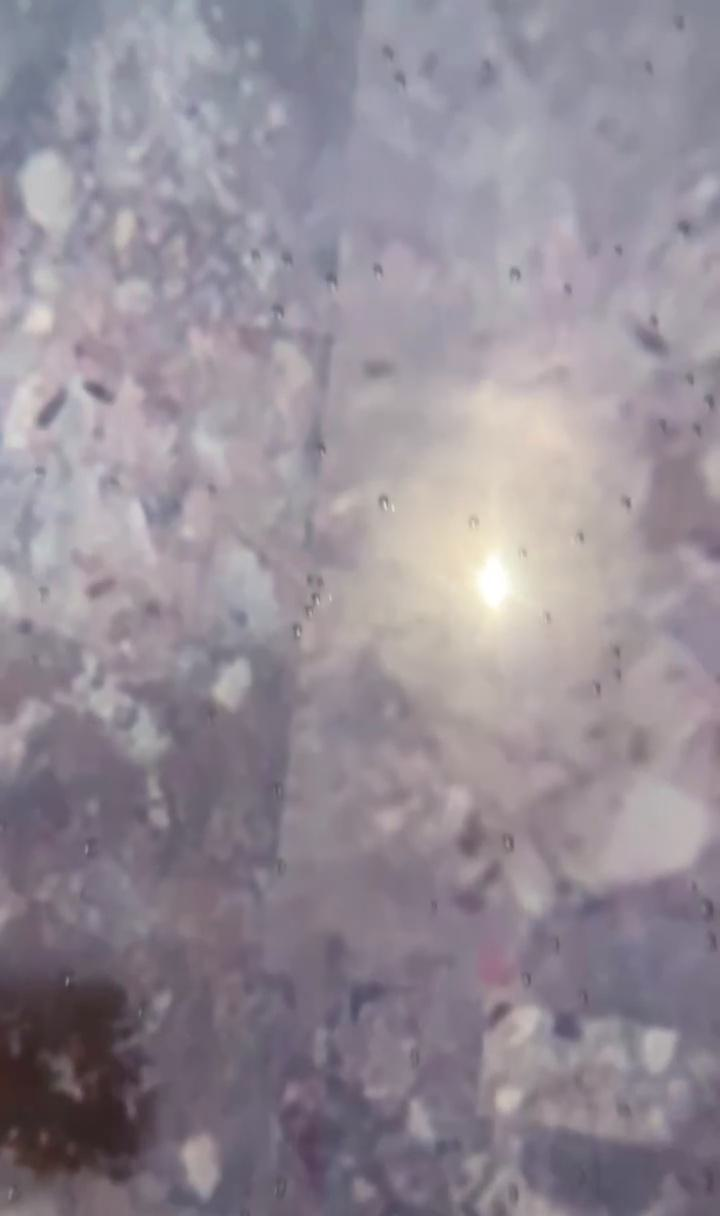Corrosion: (1, 978, 165, 1185)
